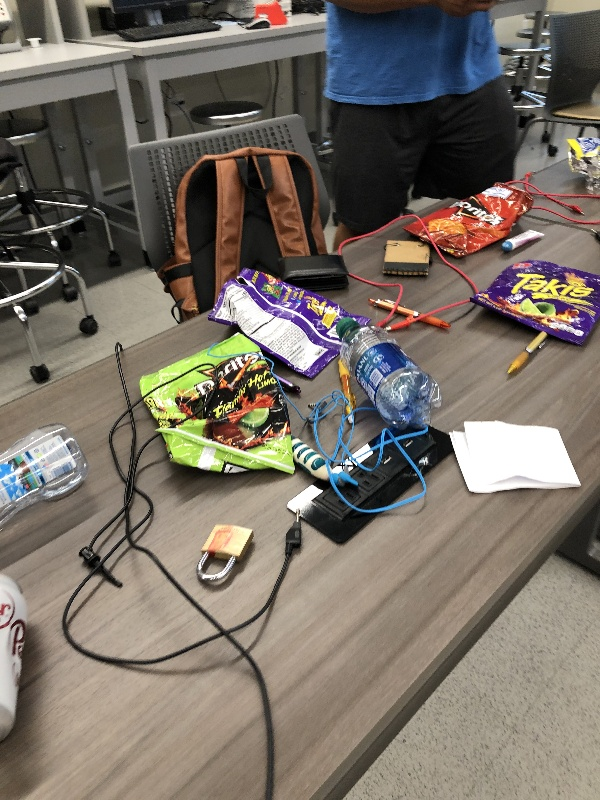bag: (131, 330, 303, 485), (204, 261, 372, 384), (462, 256, 600, 350), (400, 178, 534, 263), (562, 133, 600, 183)
bottle: (330, 315, 445, 429), (1, 422, 89, 527)
can: (1, 570, 36, 746)
